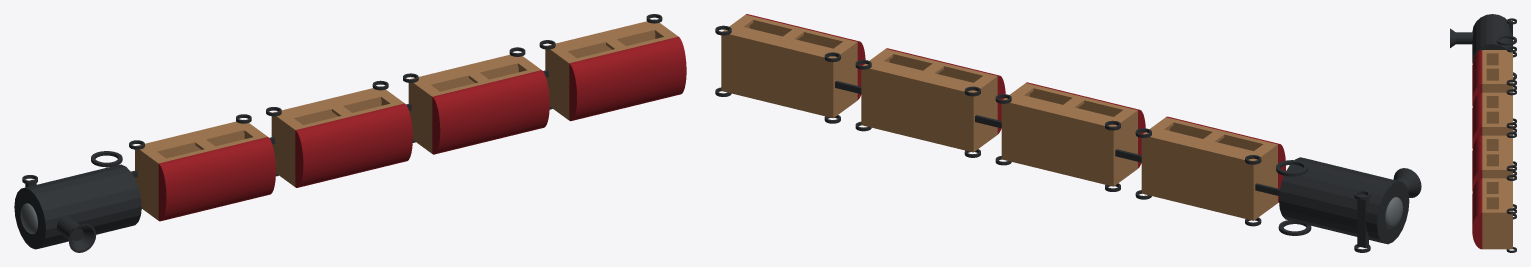
Rendered from tinker.obj.
3 views of the same model, side by side, from view 1: azimuth 30°, elevation 25°; view 2: azimuth 150°, elevation 25°; view 3: azimuth 270°, elevation 25° (orthographic). The views are drawn at different scales.
Visible parts, largest first — view 1: group_0_9771553, group_0_11107152, group_0_2829873, group_0_6383466; view 2: group_0_11107152, group_0_2829873, group_0_9771553, group_0_6383466; view 3: group_0_11107152, group_0_2829873, group_0_9771553.
Part boxes in pixels (box(x1,y1,x2,y2)): group_0_9771553: box(158, 36, 686, 221); group_0_11107152: box(135, 19, 677, 220); group_0_2829873: box(14, 14, 662, 252); group_0_6383466: box(20, 203, 37, 233); group_0_11107152: box(721, 14, 1277, 220); group_0_2829873: box(715, 25, 1421, 252); group_0_9771553: box(746, 14, 1285, 202); group_0_6383466: box(1385, 197, 1402, 228); group_0_11107152: box(1482, 50, 1512, 249); group_0_2829873: box(1450, 14, 1516, 252); group_0_9771553: box(1472, 50, 1482, 249).
Bounding box in the file's own units: 238 × 22 × 33.
